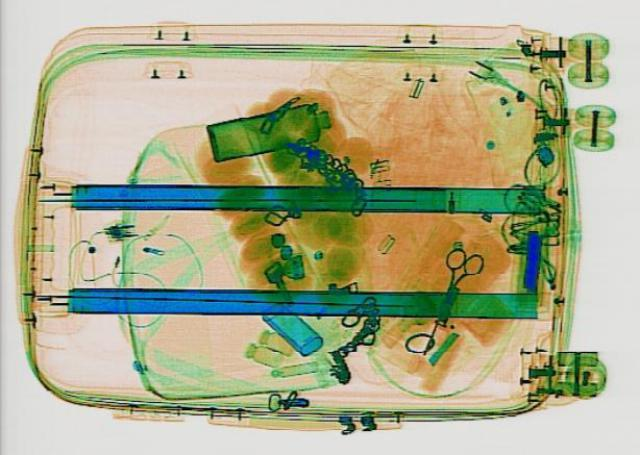Scissors: (417, 245, 488, 324)
